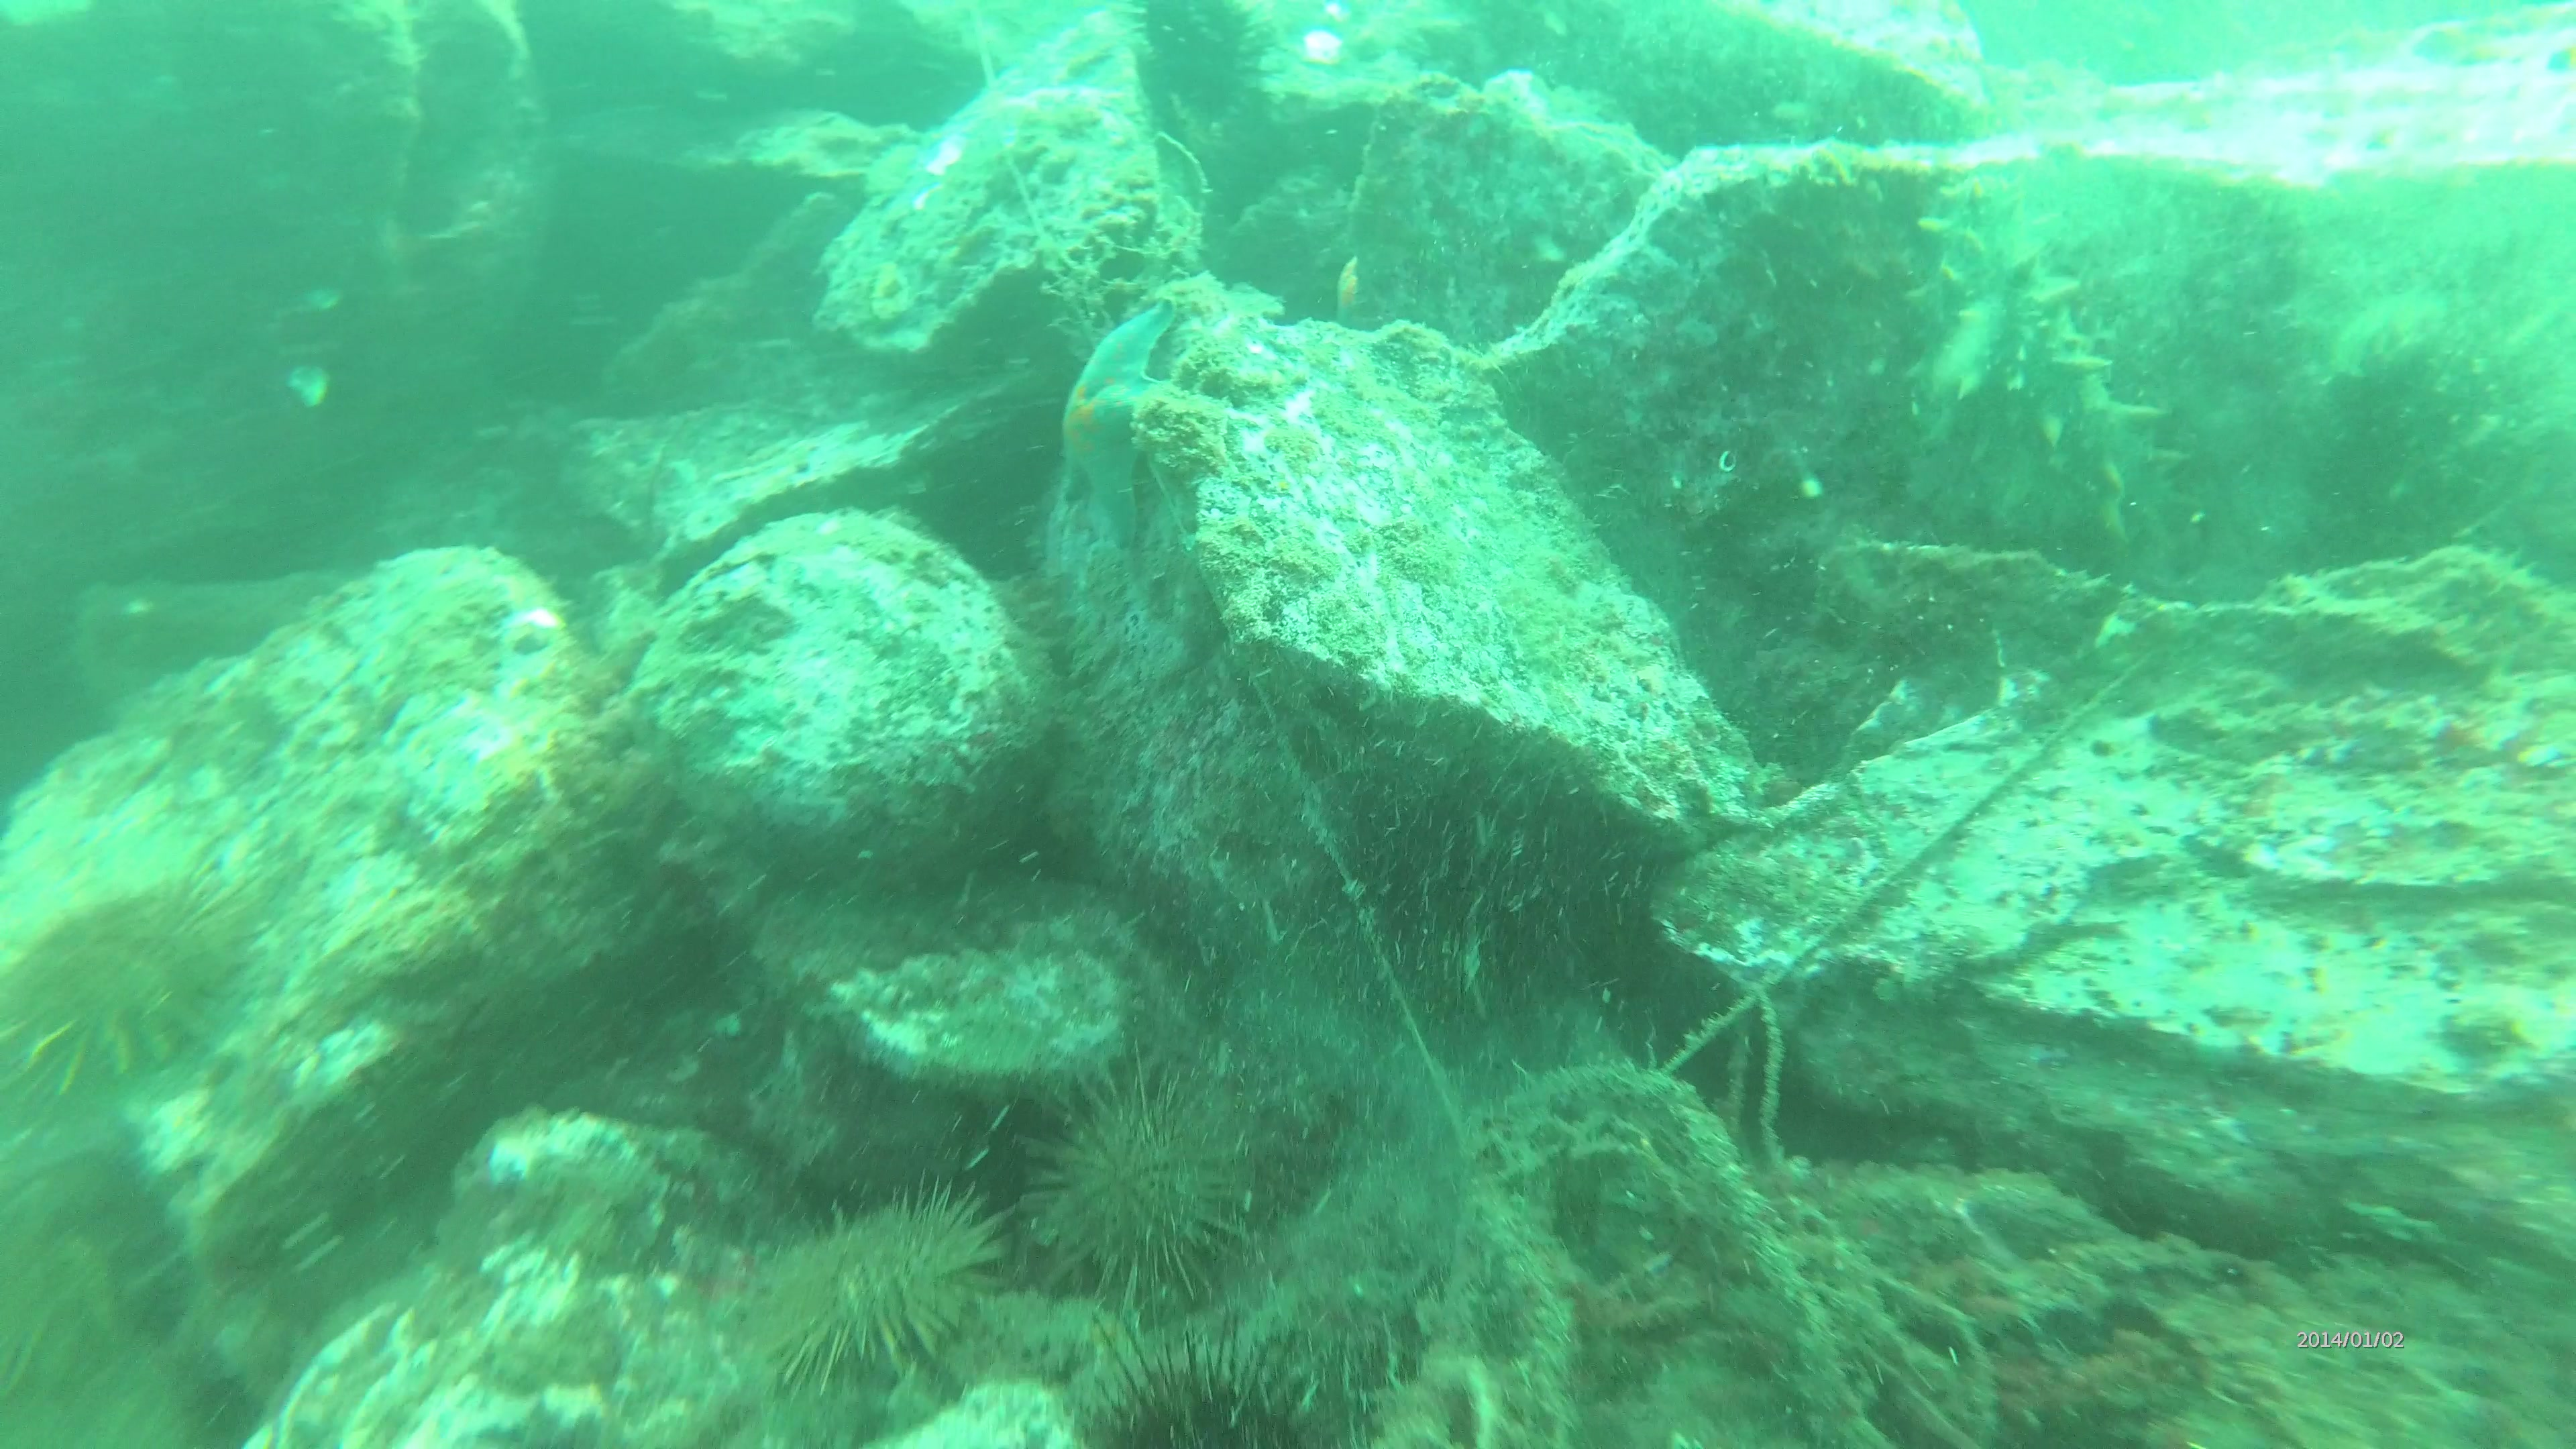echinus: (1028, 1047, 1309, 1330), (718, 1169, 1024, 1417), (11, 869, 260, 1102), (1060, 1334, 1345, 1449)
holothurian: (2010, 303, 2187, 557), (1884, 163, 2020, 446)
starfish: (1067, 295, 1192, 561), (1276, 9, 1371, 80)
